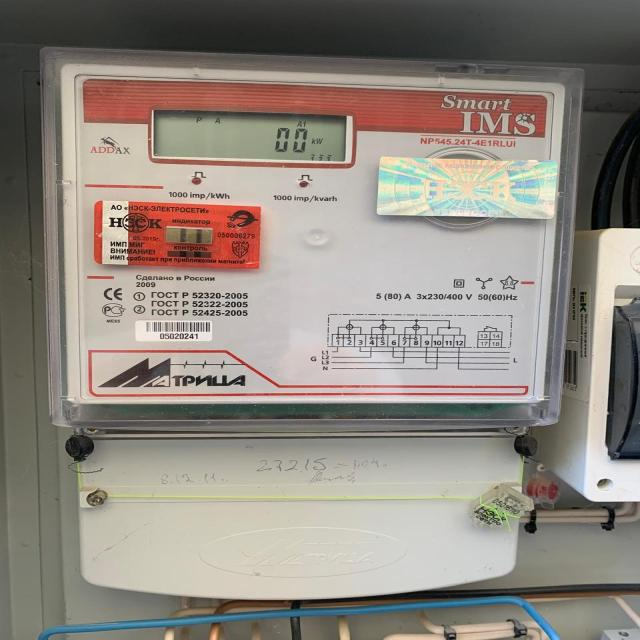Display: (150, 107, 358, 168)
meter_matrica: (47, 71, 568, 435)
meter_number: (135, 318, 216, 345)
seal_elso: (468, 482, 537, 536)
seal_imp: (92, 199, 264, 272)
